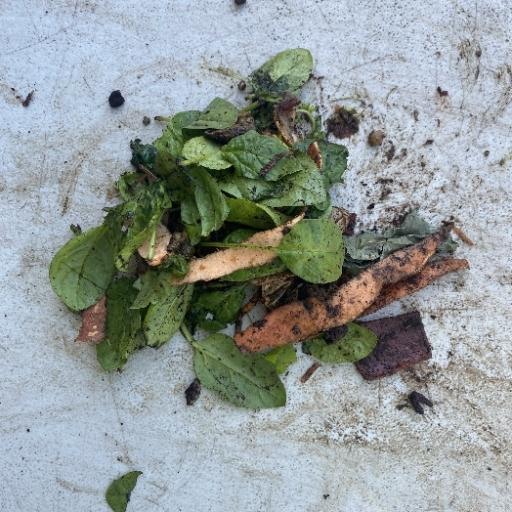Waste: (47, 46, 472, 411), (232, 217, 469, 356), (351, 309, 433, 383)
